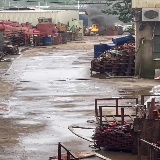fire: (91, 25, 98, 31)
